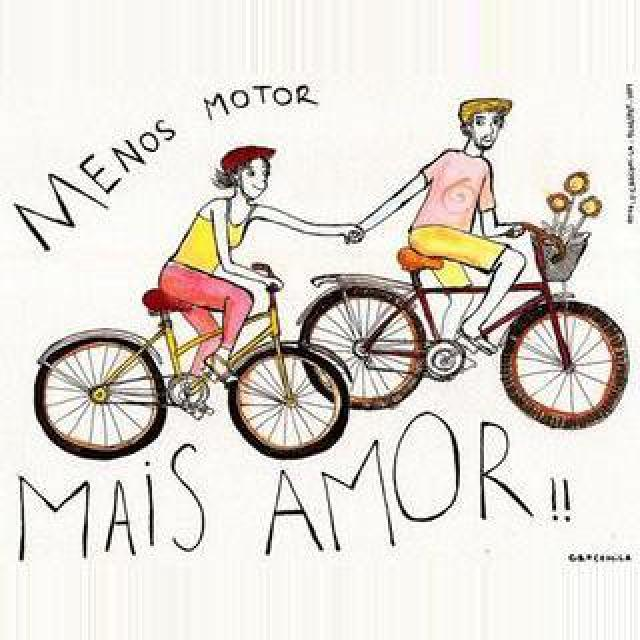MC-Bike: (146, 142, 284, 402), (404, 94, 526, 360)
Person: (304, 208, 628, 432), (34, 268, 350, 462)
